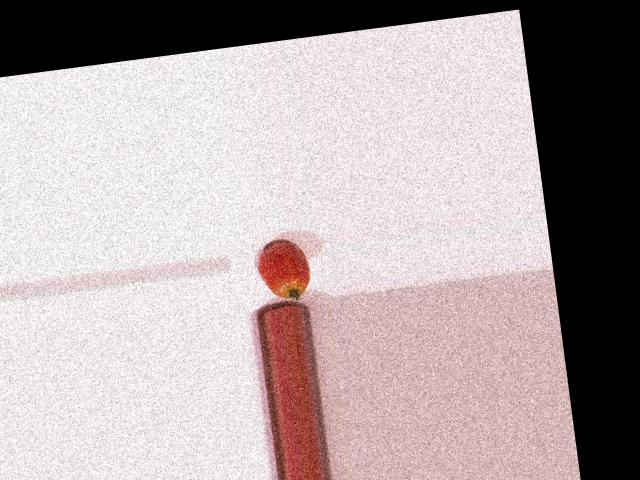tomato: (255, 240, 312, 302)
